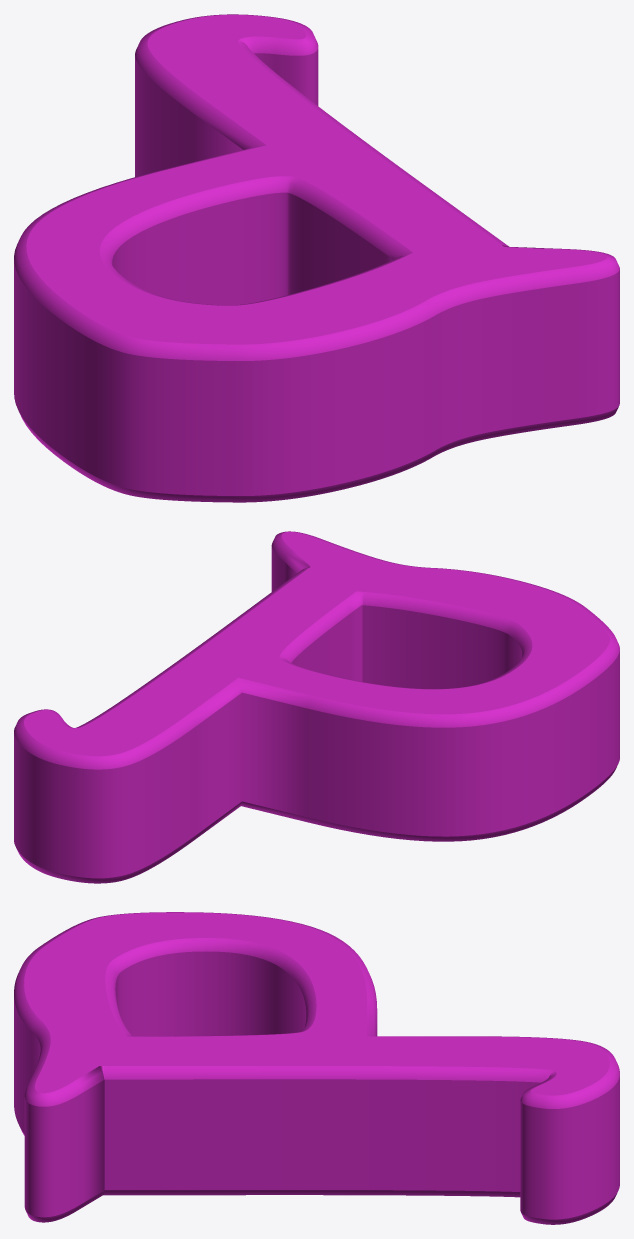
The model's file is Letter_P.fbx.
The picture shows the model from 3 angles, top to bottom: view 1: azimuth 30°, elevation 25°; view 2: azimuth 150°, elevation 25°; view 3: azimuth 270°, elevation 25°; orthographic projection. The views are drawn at different scales.
Parts seen in each view (by area): view 1: Letter_P; view 2: Letter_P; view 3: Letter_P.
Boxes of the visible parts, bbox=[...] form: Letter_P: bbox=[14, 14, 619, 502]; Letter_P: bbox=[14, 531, 619, 883]; Letter_P: bbox=[14, 912, 619, 1224].
Bounding box in the file's own units: 0.4467 × 0.14 × 0.5965.
